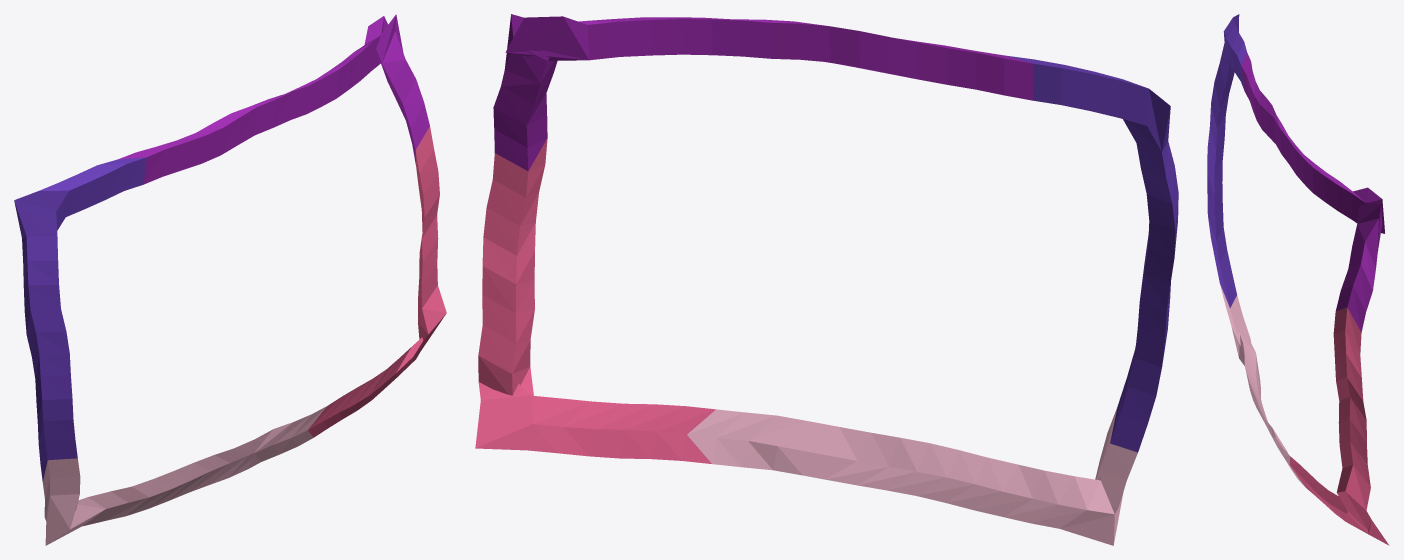
The model's file is model-triangulated.obj.
3 views of the same model, side by side, from view 1: azimuth 30°, elevation 25°; view 2: azimuth 150°, elevation 25°; view 3: azimuth 270°, elevation 25° (orthographic). The views are drawn at different scales.
Parts seen in each view (by area): view 1: group415487804; view 2: group415487804; view 3: group415487804.
Part boxes in pixels (x1,y1,x2,y2): group415487804: (14, 14, 446, 545); group415487804: (475, 14, 1178, 545); group415487804: (1207, 14, 1389, 545).
Bounding box in the file's own units: 0.8937 × 0.6599 × 0.3081.
